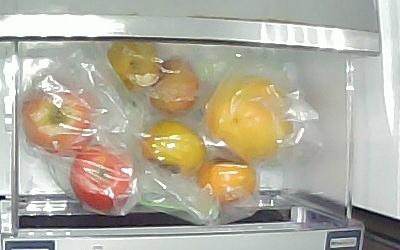apple_vinyl: (21, 80, 97, 154), (70, 146, 138, 212)
grapefruit_vinyl: (206, 72, 295, 158)
persimmon_vinyl: (143, 121, 206, 177), (196, 159, 256, 202)
prune_vinyl: (106, 40, 161, 95), (147, 59, 201, 112)
